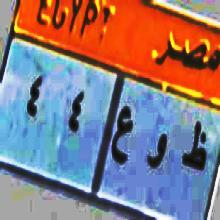4: (68, 88, 86, 140), (26, 73, 43, 123)
Thaa: (180, 115, 207, 180)
ain: (112, 105, 132, 172)
waw: (147, 127, 166, 177)
